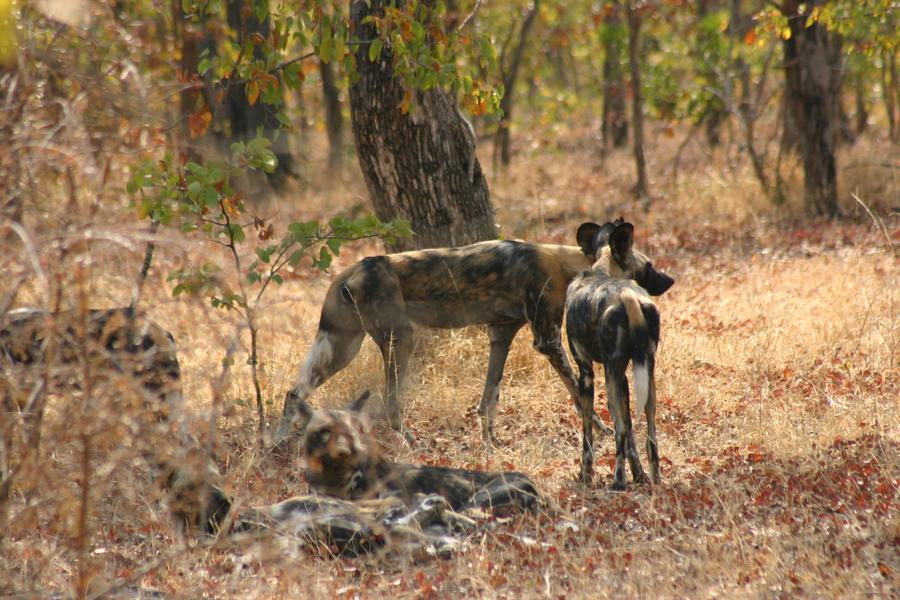wilddog: (332, 232, 554, 357), (582, 240, 661, 390)
